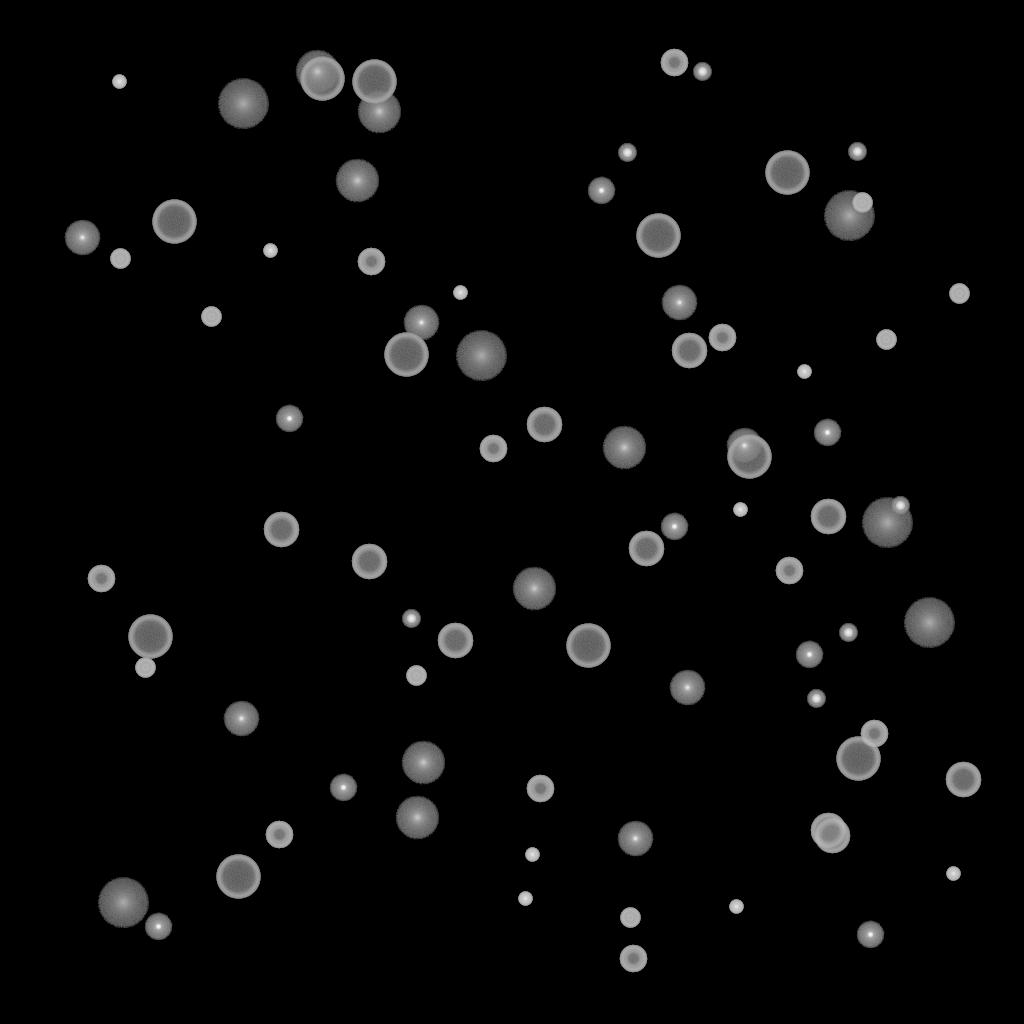depth:-10: (144, 913, 172, 941), (856, 921, 884, 949), (795, 641, 823, 669), (587, 177, 615, 205), (275, 405, 303, 433), (813, 419, 841, 447), (329, 774, 357, 802), (660, 513, 688, 541)
depth:-20: (693, 63, 711, 81), (402, 610, 420, 628), (891, 497, 909, 515), (807, 690, 825, 708), (848, 143, 866, 161), (618, 144, 636, 162), (839, 624, 857, 642)
depth:-30: (797, 365, 811, 379), (525, 848, 539, 862), (946, 867, 960, 881), (733, 503, 747, 517), (729, 900, 743, 914), (453, 286, 467, 300), (518, 892, 532, 906), (263, 244, 277, 258), (112, 75, 126, 89)
depth:-40: (406, 666, 426, 686), (135, 658, 155, 678), (852, 193, 872, 213), (110, 249, 130, 269), (949, 284, 969, 304), (620, 908, 640, 928), (201, 307, 221, 327), (876, 330, 896, 350)
depth:-50: (87, 565, 115, 593), (479, 435, 507, 463), (660, 49, 688, 77), (526, 775, 554, 803), (357, 248, 385, 276), (265, 821, 293, 849), (775, 557, 803, 585), (708, 324, 736, 352), (860, 720, 888, 748), (619, 945, 647, 973)
depth:-60: (437, 623, 473, 659), (945, 762, 981, 798), (263, 512, 299, 548), (351, 544, 387, 580), (628, 531, 664, 567), (526, 407, 562, 443), (810, 813, 846, 849), (810, 499, 846, 535), (671, 333, 707, 369), (814, 818, 850, 854)
depth:-70: (216, 855, 260, 899), (765, 151, 809, 195), (152, 200, 196, 244), (636, 214, 680, 258), (727, 435, 771, 479), (300, 57, 344, 101), (566, 624, 610, 668), (128, 615, 172, 659), (352, 60, 396, 104), (384, 333, 428, 377), (836, 737, 880, 781)
depth:0: (64, 220, 100, 256), (617, 821, 653, 857), (223, 701, 259, 737), (403, 305, 439, 341), (669, 670, 705, 706), (661, 285, 697, 321), (726, 428, 762, 464)
depth:10: (335, 159, 379, 203), (602, 426, 646, 470), (357, 90, 401, 134), (295, 50, 339, 94), (395, 796, 439, 840), (401, 741, 445, 785), (512, 567, 556, 611)
depth:20: (217, 79, 269, 129), (97, 878, 149, 928), (823, 191, 875, 241), (903, 598, 955, 648), (861, 498, 913, 548), (455, 331, 507, 381)
